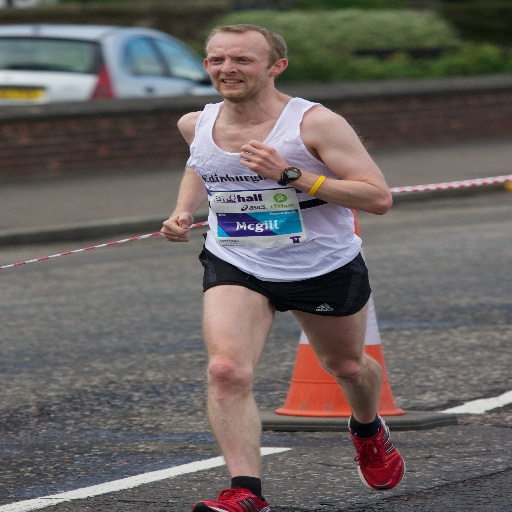hand: (151, 206, 204, 242), (240, 137, 285, 178)
